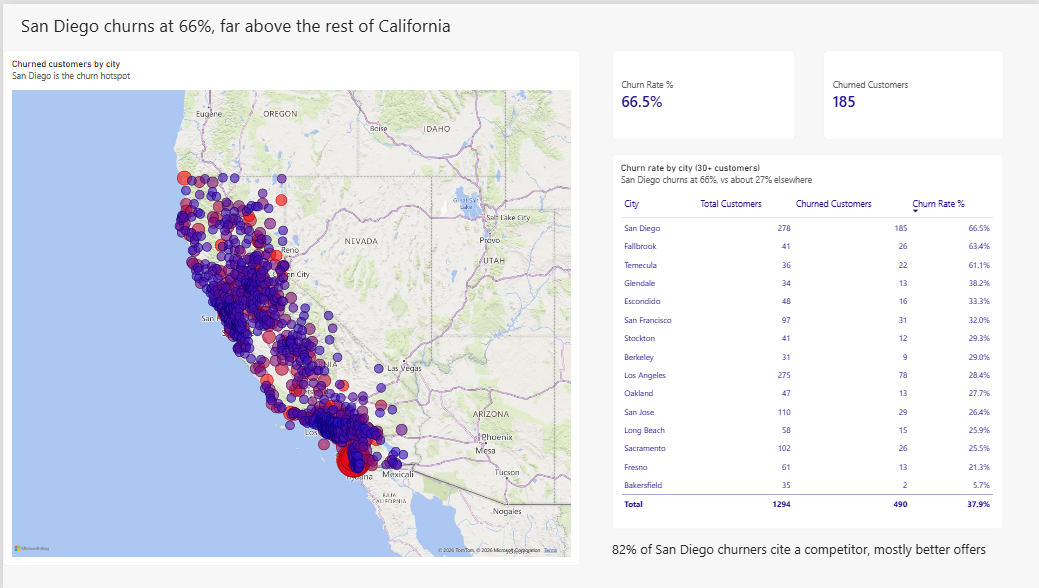

This screenshot's page, from the dashboard's own definition file:
{"tool":"powerbi","page":{"name":"Page 3","canvas":[1920,1080],"ordinal":2},"visuals":[{"type":"textbox","box":[32.5,17.5,1037.5,67.5],"z":0},{"type":"map","title":"Churned customers by city","fields":{"Size":["churn.Churned Customers"],"X":["churn.Longitude"],"Y":["churn.Latitude"]},"box":[0,85.7,1068.6,954.3],"z":1000},{"type":"cardVisual","fields":{"Data":["churn.Churn Rate %"]},"box":[1128.9,86.8,339.5,165.8],"z":2000},{"type":"cardVisual","fields":{"Data":["churn.Churned Customers"]},"box":[1518.4,86.8,334.2,165.8],"z":3000},{"type":"tableEx","title":"Churn rate by city (30+ customers)","fields":{"Values":["churn.City","churn.Total Customers","churn.Churned Customers","churn.Churn Rate %"]},"box":[1128.9,278.9,723.7,694.7],"z":4000},{"type":"textbox","box":[1128.9,992.1,723.7,50],"z":5000}]}

Visuals, with their boxes in screenshot pixels (x1, y1, x2, y2), scaled from the page's 1920x1080 canvas onto the 1039x588 screenshot:
textbox: detection(18, 10, 579, 46)
"Churned customers by city" map: detection(0, 47, 578, 566)
cardVisual - churn.Churn Rate %: detection(611, 47, 795, 138)
cardVisual - churn.Churned Customers: detection(822, 47, 1003, 138)
"Churn rate by city (30+ customers)" tableEx: detection(611, 152, 1003, 530)
textbox: detection(611, 540, 1003, 567)
